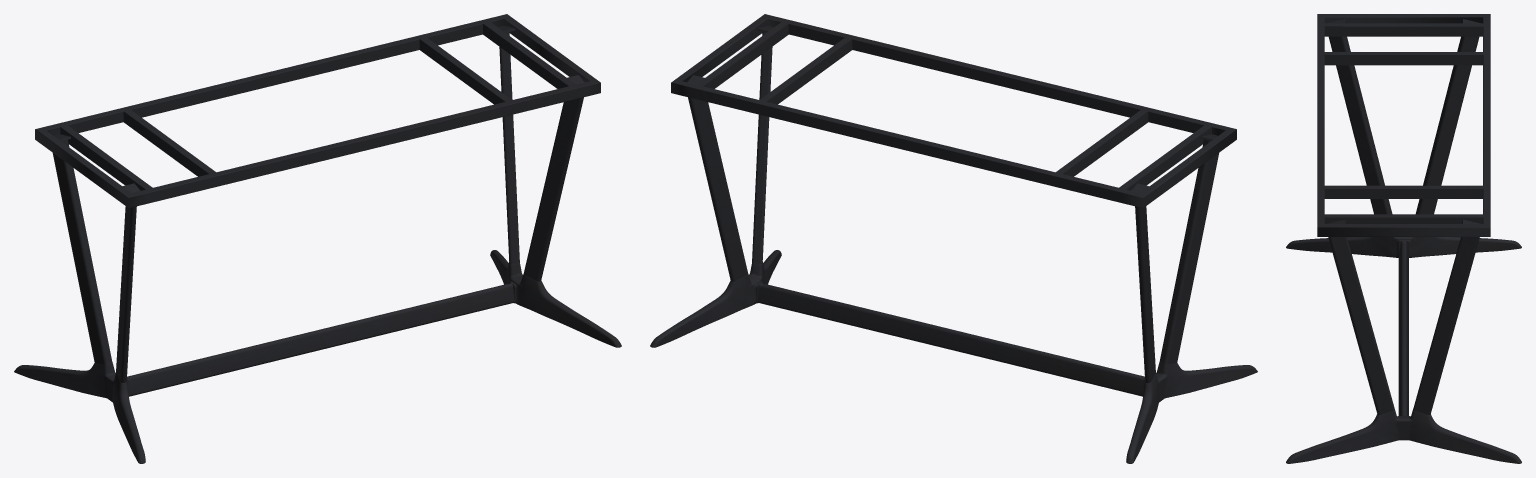
The model's file is BGID01610.glb.
3 renders of one model, left to right at view 1: azimuth 30°, elevation 25°; view 2: azimuth 150°, elevation 25°; view 3: azimuth 270°, elevation 25°, orthographic. The views are drawn at different scales.
Visible parts, largest first — view 1: BP_BGID01610; view 2: BP_BGID01610; view 3: BP_BGID01610.
Boxes of the visible parts, x1,y1,x2,y2 form: BP_BGID01610: [14, 14, 621, 463]; BP_BGID01610: [650, 14, 1257, 463]; BP_BGID01610: [1286, 14, 1521, 463].
Bounding box in the file's own units: 1.37 × 0.6874 × 0.6264.
1 material, 1 textured.
